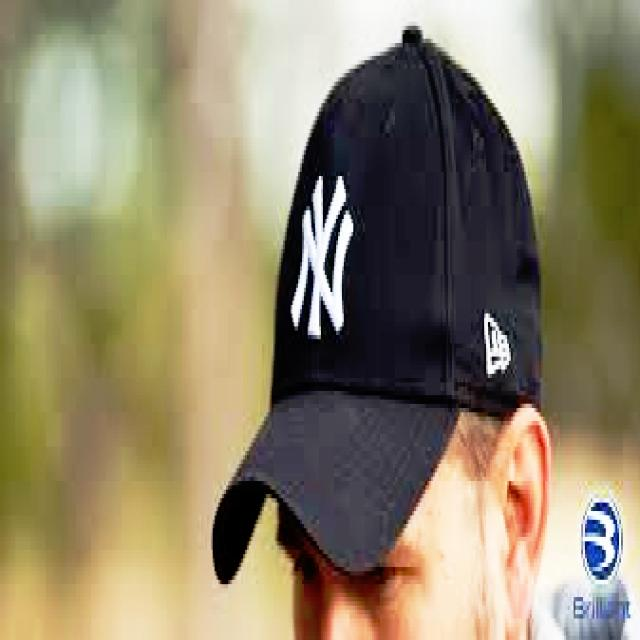TOPI: (205, 17, 549, 580)
